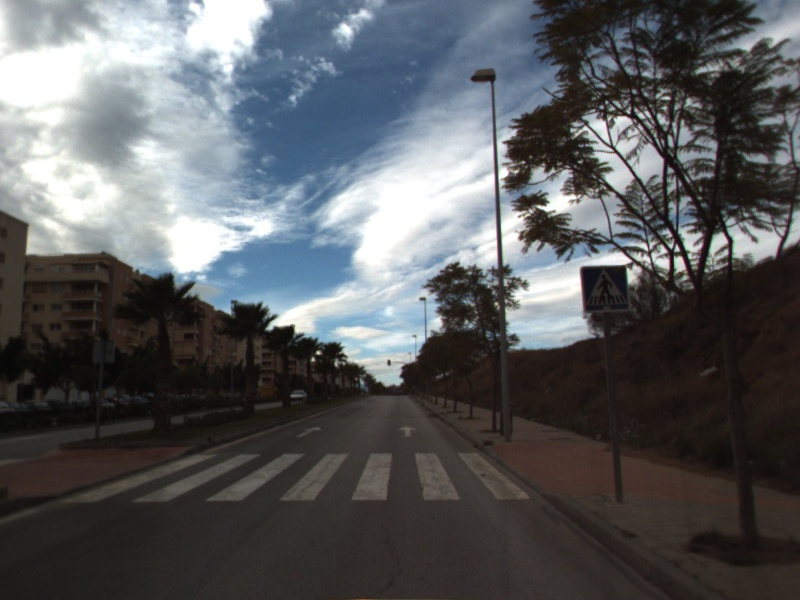STRAIGHT: (294, 424, 324, 440), (396, 424, 419, 439)
